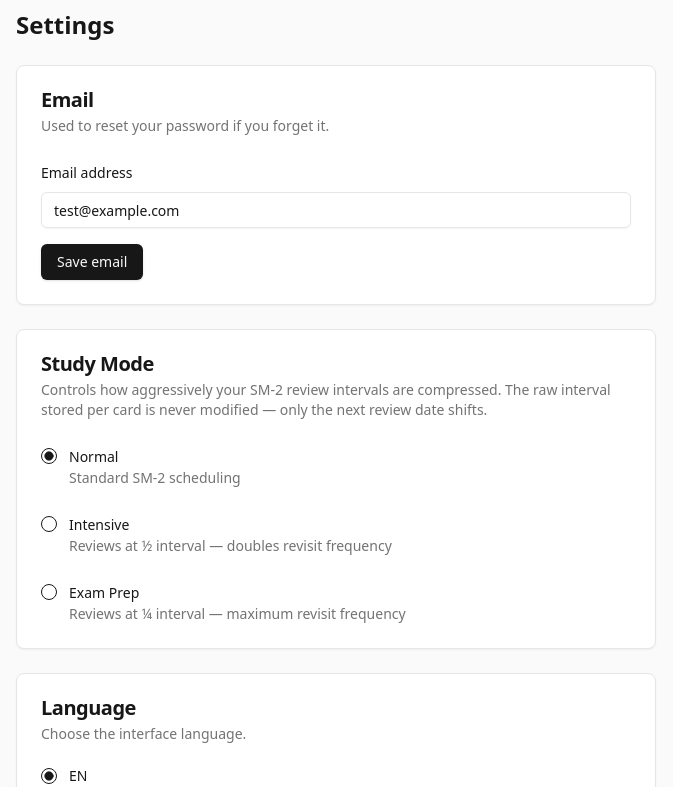
SettingsPage › EMAIL-09b: EMAIL_TAKEN conflict shows inline "already in use" message
Replace the text in the field labelled "Email address" with "taken@example.com" at (336, 210), box [41, 192, 631, 228]
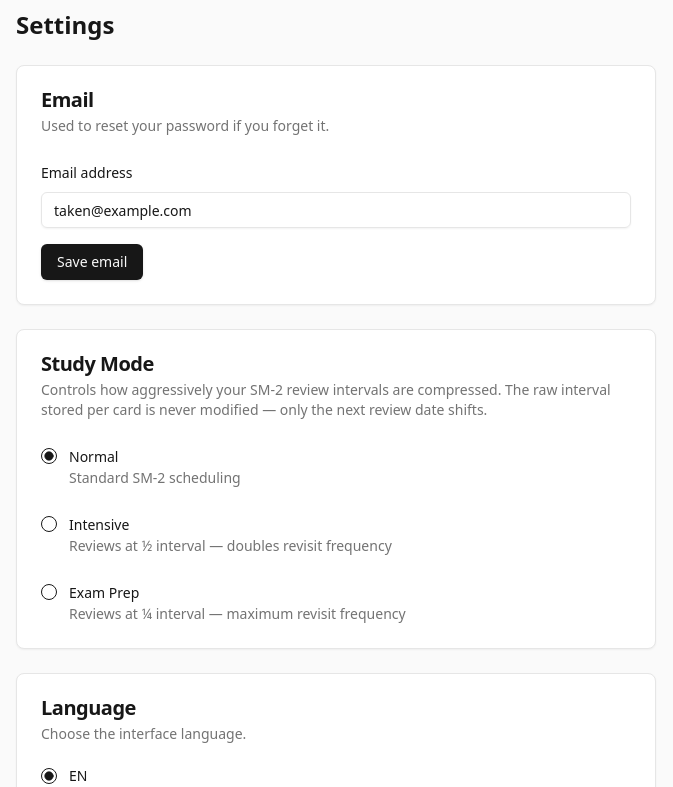
Click the button "Save email" at (92, 262), box [41, 244, 143, 280]
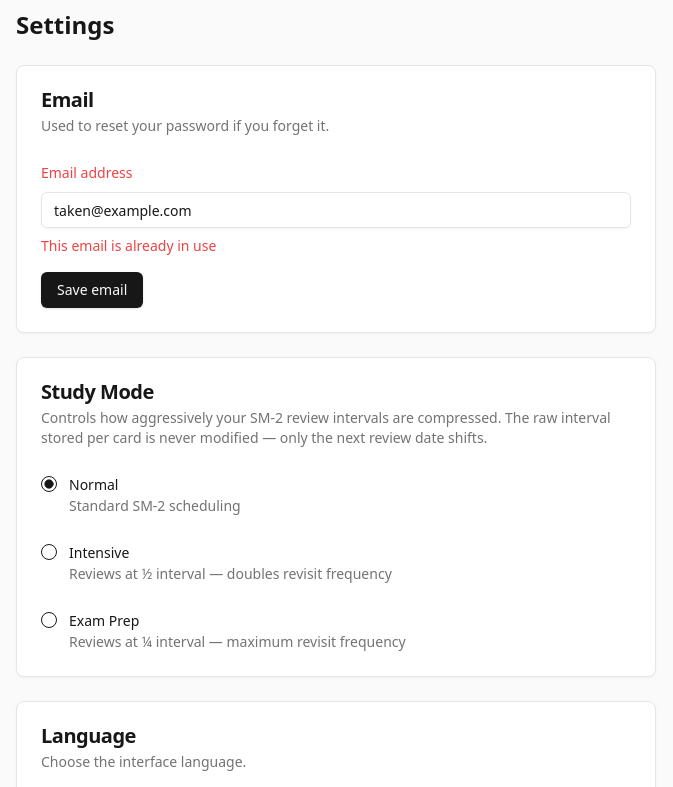
Now the text "This email is already in use" is shown, box [41, 236, 216, 255]
